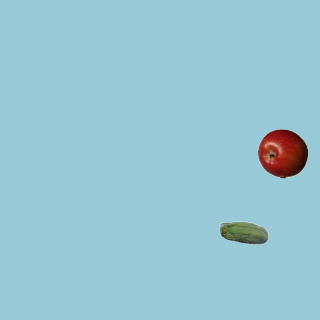Apple Braeburn: (257, 128, 307, 178)
Corn Husk: (218, 209, 268, 259)
